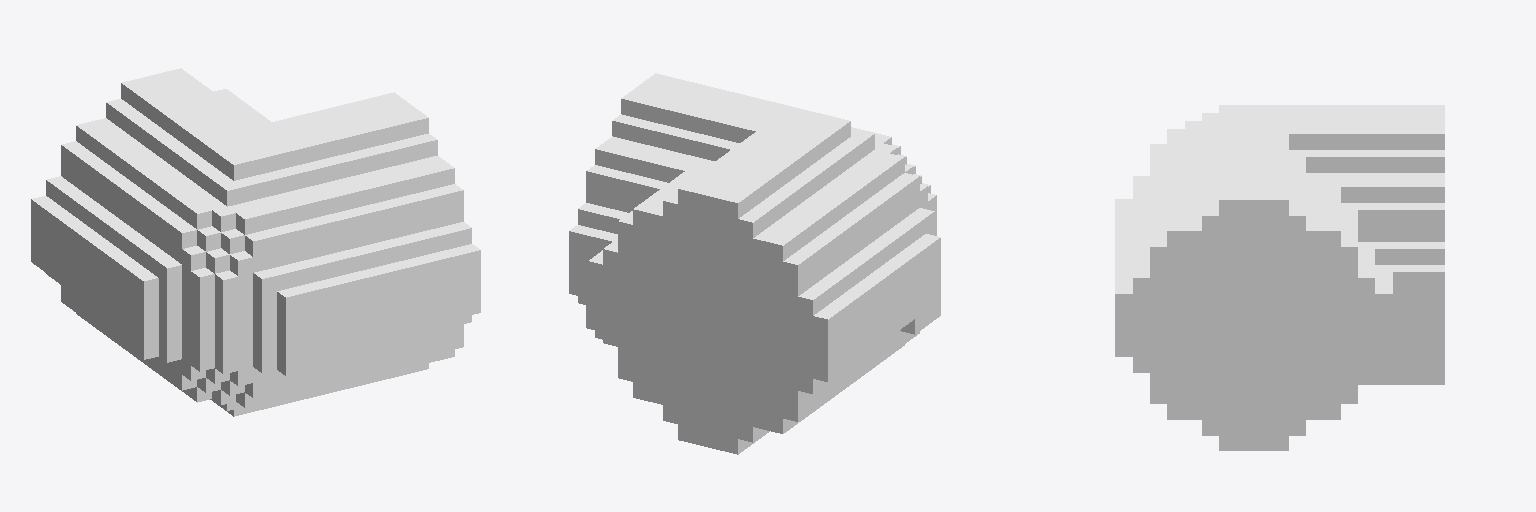
File: snake22_angle.obj
The picture shows the model from 3 angles: view 1: azimuth 30°, elevation 25°; view 2: azimuth 150°, elevation 25°; view 3: azimuth 270°, elevation 25°; orthographic projection.
Parts seen in each view (by area): view 1: object 1; view 2: object 1; view 3: object 1.
Part boxes in pixels (bbox=[...]): object 1: bbox=[31, 68, 480, 416]; object 1: bbox=[569, 73, 940, 454]; object 1: bbox=[1115, 105, 1444, 450].
Size of the model in its own units: 1.9 by 1.6 by 1.9.